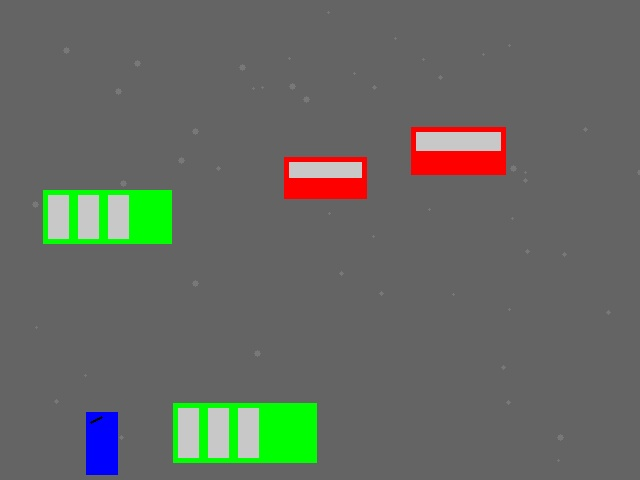bus: (173, 403, 316, 462), (43, 190, 171, 243)
car: (411, 127, 505, 174), (284, 157, 366, 198)
motorcycle: (86, 412, 117, 474)
